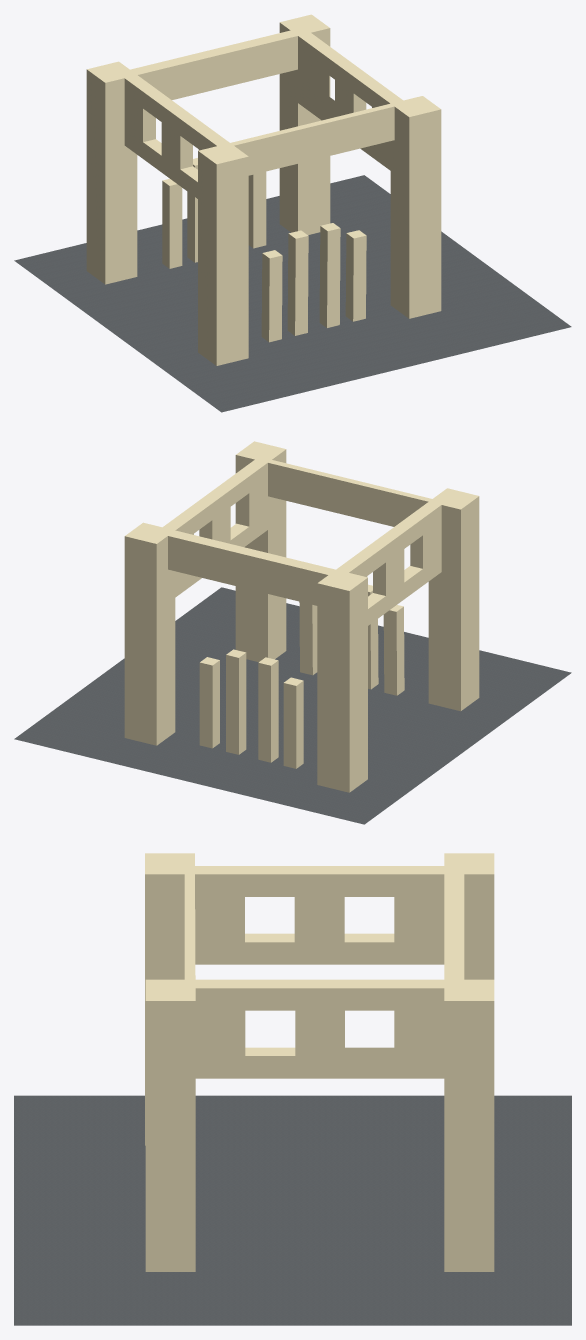
The picture shows the model from 3 angles, top to bottom: view 1: azimuth 30°, elevation 25°; view 2: azimuth 150°, elevation 25°; view 3: azimuth 270°, elevation 25°; orthographic projection. The views are drawn at different scales.
Visible parts, largest first — view 1: Root Node; view 2: Root Node; view 3: Root Node.
Boxes of the visible parts, x1=… form: Root Node: x1=14, y1=14, x2=571, y2=412; Root Node: x1=14, y1=441, x2=571, y2=824; Root Node: x1=14, y1=853, x2=571, y2=1325.
Bounding box in the file's own units: 54.54 × 30.2 × 55.94.
112 materials, 1 textured.
